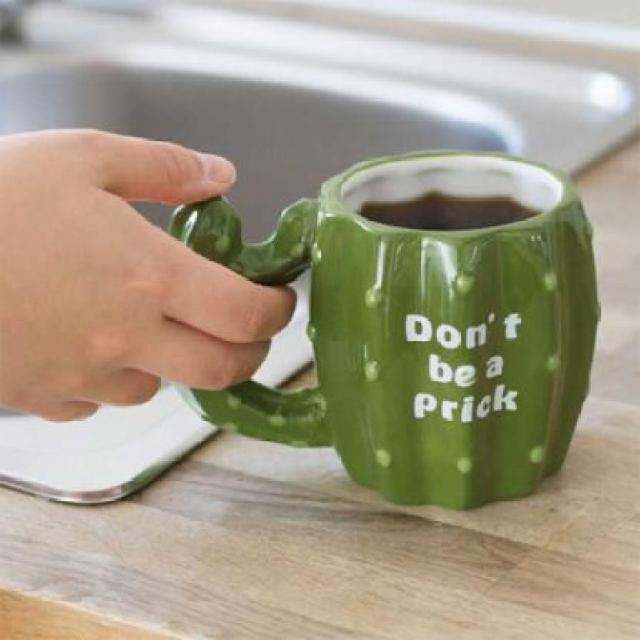taza: (155, 135, 618, 514)
